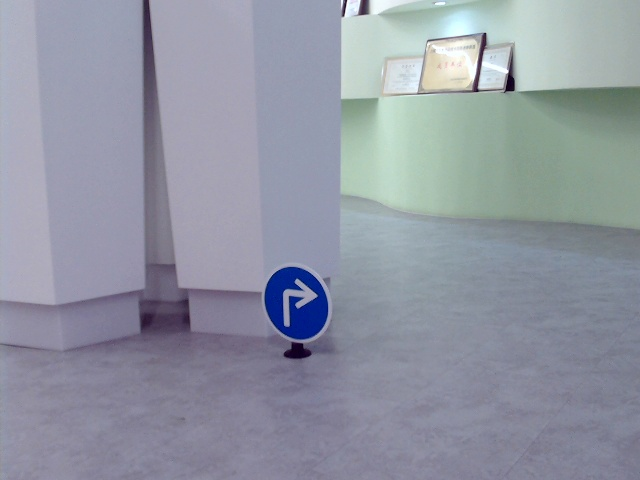turn_right: (279, 280, 317, 328)
